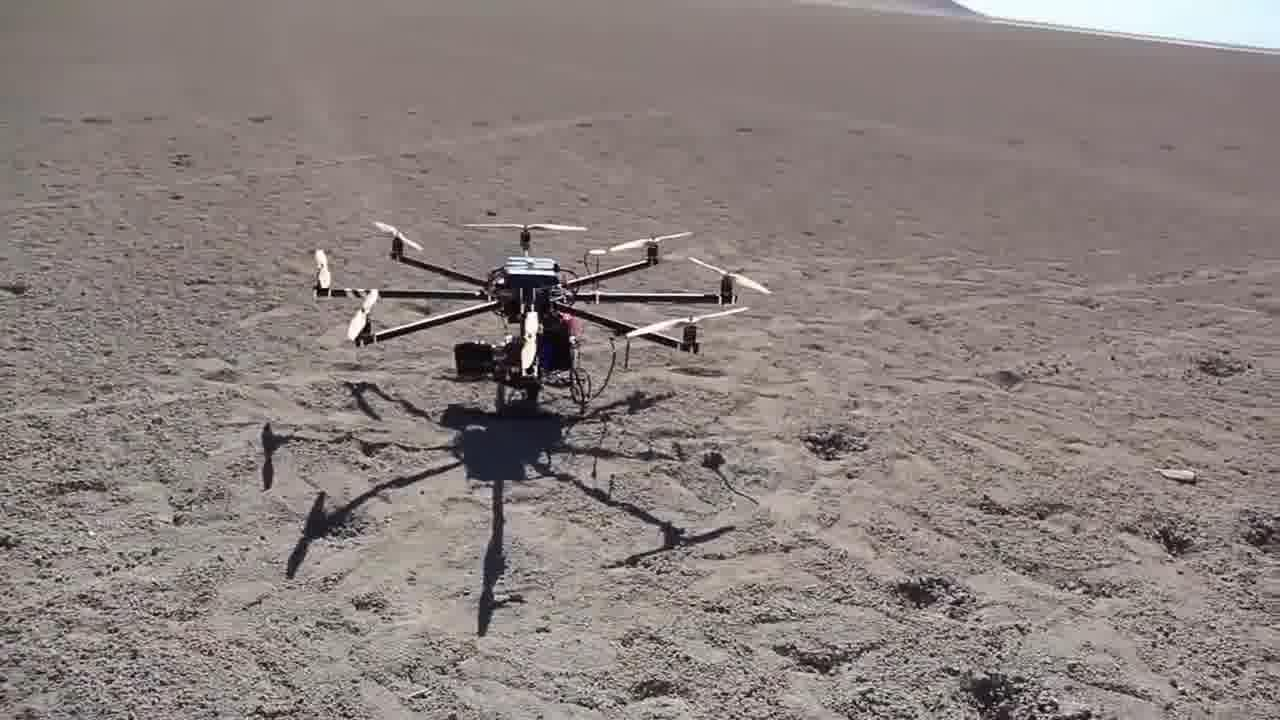drone: (301, 195, 772, 425)
